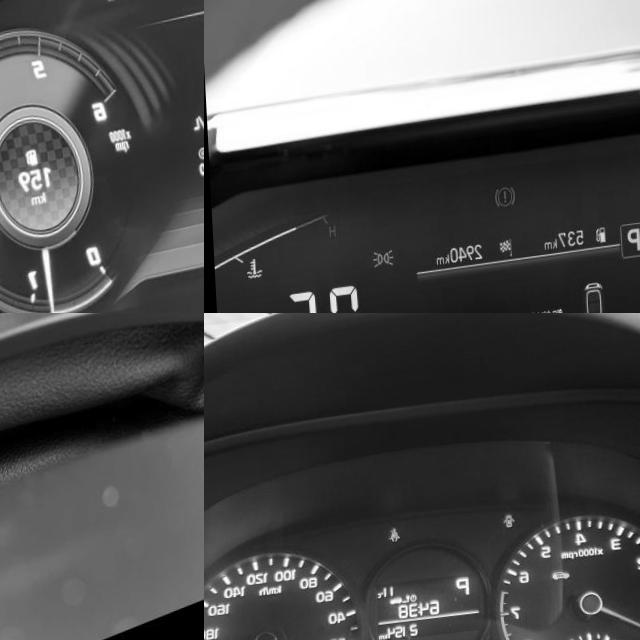SideLamp: (370, 251, 392, 273)
